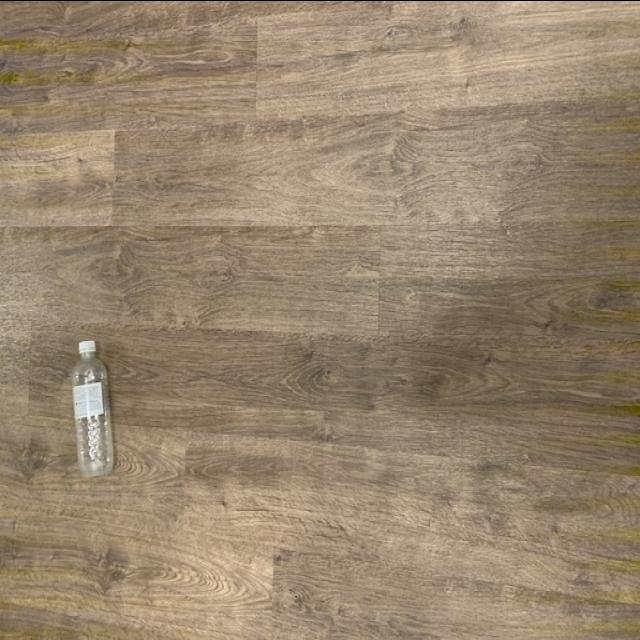litter: (70, 338, 117, 478)
